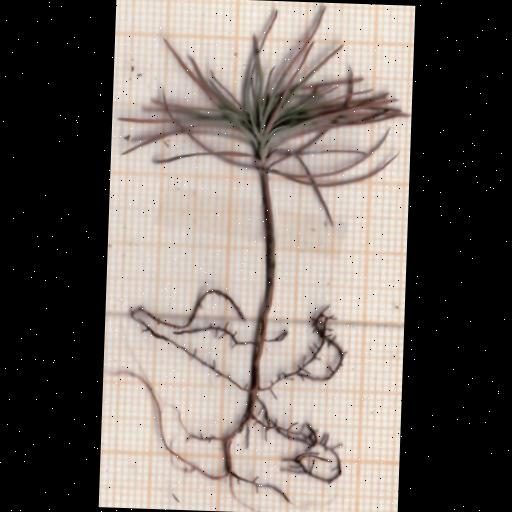flowerCedr: (123, 7, 403, 218)
rootCedr: (129, 290, 343, 501)
stemCedr: (258, 173, 275, 341)
